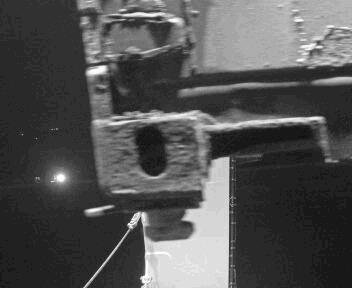twist_lock_1: (108, 189, 213, 254)
